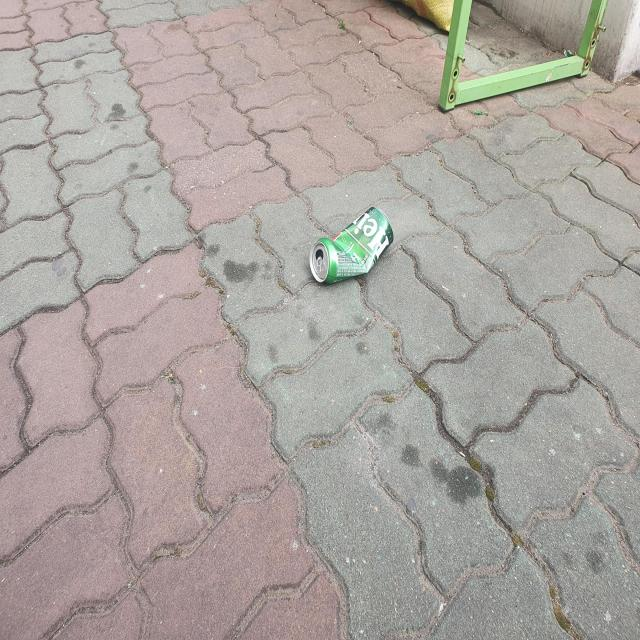can: (309, 206, 394, 283)
